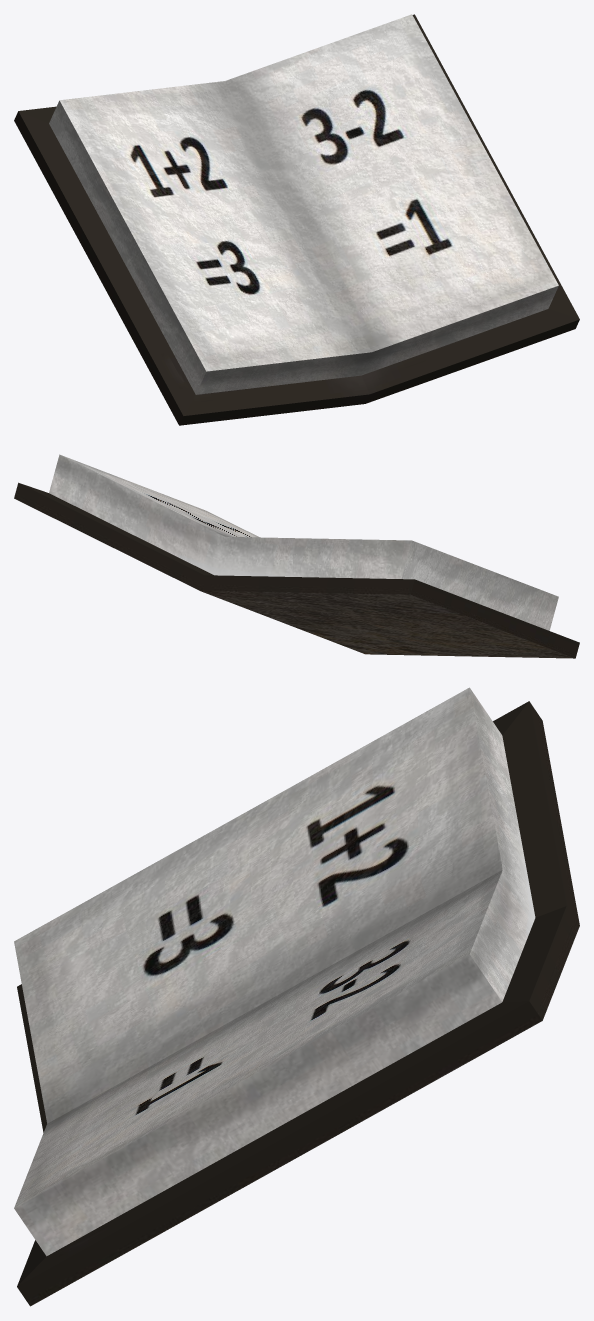
File: book.glb
3 renders of one model, top to bottom at view 1: azimuth 30°, elevation 25°; view 2: azimuth 150°, elevation 25°; view 3: azimuth 270°, elevation 25°, orthographic. The views are drawn at different scales.
Parts seen in each view (by area): view 1: Plane; view 2: Plane; view 3: Plane.
Part boxes in pixels (box(x1,y1,x2,y2)): Plane: box(14, 14, 579, 425); Plane: box(14, 454, 579, 658); Plane: box(14, 687, 579, 1306).
Size of the model in its own units: 0.9595 by 0.5823 by 0.7648.
Materials: 1 (1 with a texture image).
